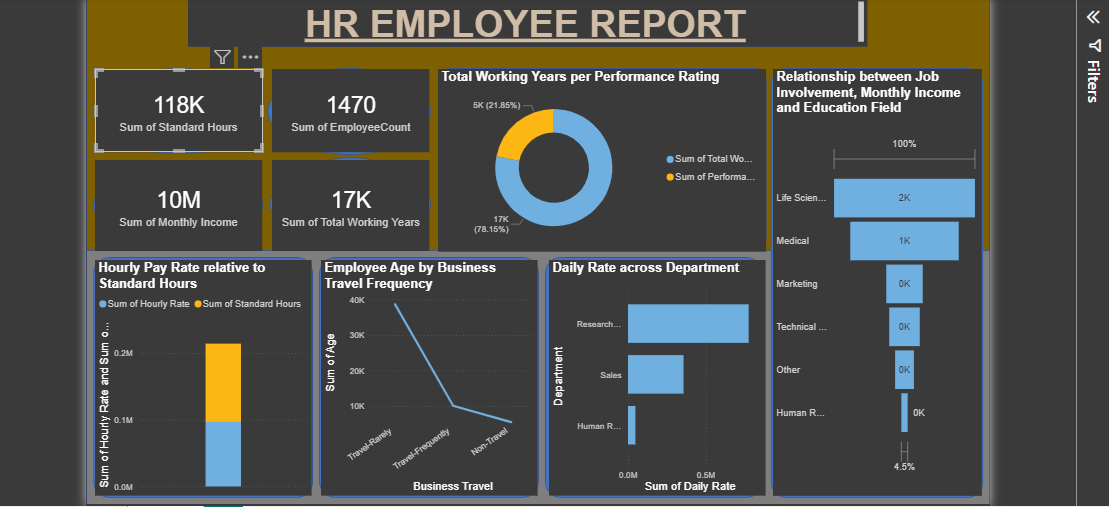

The dashboard page shown, as its layout file describes it:
{"tool":"powerbi","page":{"name":"Page 1","canvas":[1280,720],"ordinal":0},"visuals":[{"type":"columnChart","fields":{"Y":["Sum(WA_Fn-UseC_-HR-Employee-Attriti.Hourly Rate)","Sum(WA_Fn-UseC_-HR-Employee-Attriti.Standard Hours)"]},"box":[13.4,371.2,307.4,334.3],"z":0},{"type":"clusteredBarChart","fields":{"Y":["Sum(WA_Fn-UseC_-HR-Employee-Attriti.Daily Rate)"],"Category":["WA_Fn-UseC_-HR-Employee-Attriti.Department"]},"box":[656.8,371.2,307.4,334.3],"z":1},{"type":"lineChart","fields":{"Y":["Sum(WA_Fn-UseC_-HR-Employee-Attriti.Age)"],"Category":["WA_Fn-UseC_-HR-Employee-Attriti.Business Travel"]},"box":[332.6,371.2,307.4,334.3],"z":2},{"type":"funnel","fields":{"Category":["WA_Fn-UseC_-HR-Employee-Attriti.Education Field"],"Y":["Sum(WA_Fn-UseC_-HR-Employee-Attriti.Job Involvement)"]},"box":[972.6,100.8,307.4,604.7],"z":3},{"type":"donutChart","fields":{"Y":["Sum(WA_Fn-UseC_-HR-Employee-Attriti.Total Working Years)","Sum(WA_Fn-UseC_-HR-Employee-Attriti.Performance Rating)"]},"box":[498.9,100.8,465.3,258.7],"z":4},{"type":"card","fields":{"Values":["Sum(WA_Fn-UseC_-HR-Employee-Attriti.Training Times Last Year)"]},"box":[263.7,230.1,223.4,129.3],"z":5},{"type":"card","fields":{"Values":["Sum(WA_Fn-UseC_-HR-Employee-Attriti.Monthly Income)"]},"box":[13.4,230.1,236.9,129.3],"z":6},{"type":"card","fields":{"Values":["Sum(WA_Fn-UseC_-HR-Employee-Attriti.Num Companies Worked)"]},"box":[13.4,100.8,236.9,117.6],"z":7},{"type":"card","fields":{"Values":["Sum(WA_Fn-UseC_-HR-Employee-Attriti.EmployeeCount)"]},"box":[263.7,100.8,223.4,117.6],"z":8},{"type":"textbox","box":[144.5,0,962.5,68.9],"z":9}]}

Visuals, with their boxes in screenshot pixels (x1, y1, x2, y2):
columnChart - Sum(WA_Fn-UseC_-HR-Employee-Attriti.Hourly Rate) x Sum(WA_Fn-UseC_-HR-Employee-Attriti.Standard Hours): bbox=(102, 264, 316, 497)
clusteredBarChart - Sum(WA_Fn-UseC_-HR-Employee-Attriti.Daily Rate) x WA_Fn-UseC_-HR-Employee-Attriti.Department: bbox=(550, 264, 764, 497)
lineChart - Sum(WA_Fn-UseC_-HR-Employee-Attriti.Age) x WA_Fn-UseC_-HR-Employee-Attriti.Business Travel: bbox=(324, 264, 538, 497)
funnel - WA_Fn-UseC_-HR-Employee-Attriti.Education Field x Sum(WA_Fn-UseC_-HR-Employee-Attriti.Job Involvement): bbox=(770, 76, 984, 497)
donutChart - Sum(WA_Fn-UseC_-HR-Employee-Attriti.Total Working Years) x Sum(WA_Fn-UseC_-HR-Employee-Attriti.Performance Rating): bbox=(440, 76, 764, 256)
card - Sum(WA_Fn-UseC_-HR-Employee-Attriti.Training Times Last Year): bbox=(276, 166, 432, 256)
card - Sum(WA_Fn-UseC_-HR-Employee-Attriti.Monthly Income): bbox=(102, 166, 267, 256)
card - Sum(WA_Fn-UseC_-HR-Employee-Attriti.Num Companies Worked): bbox=(102, 76, 267, 158)
card - Sum(WA_Fn-UseC_-HR-Employee-Attriti.EmployeeCount): bbox=(276, 76, 432, 158)
textbox: bbox=(193, 6, 863, 54)
